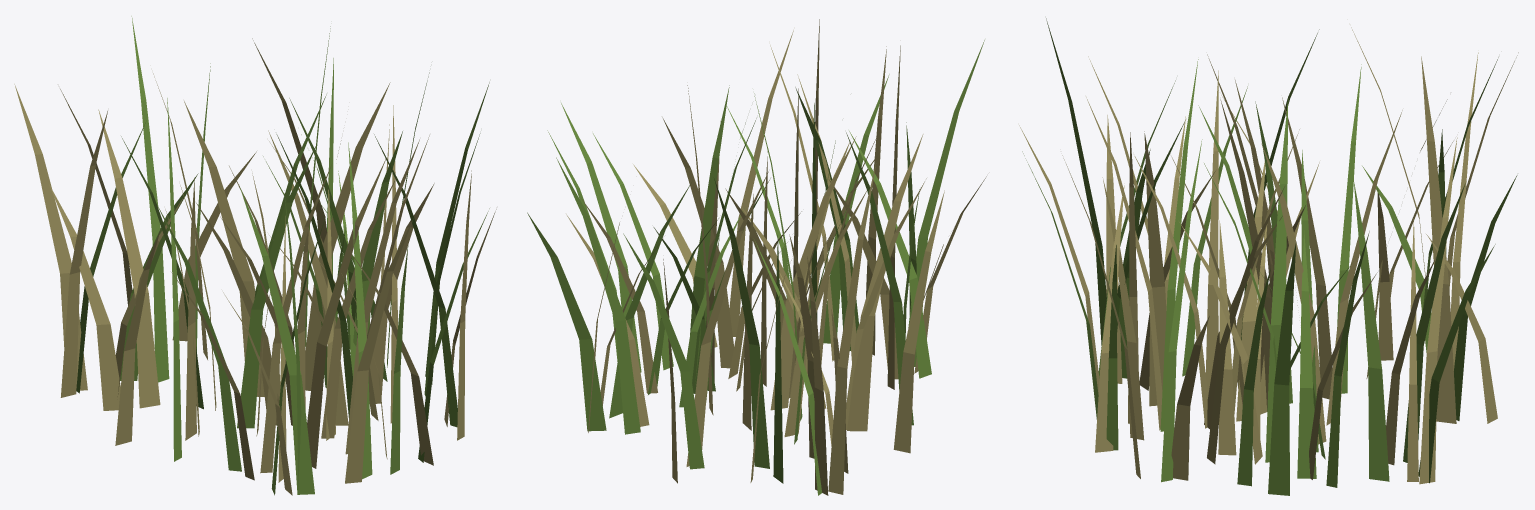
File: grass_tall.glb
3 renders of one model, left to right at view 1: azimuth 30°, elevation 25°; view 2: azimuth 150°, elevation 25°; view 3: azimuth 270°, elevation 25°, orthographic. The views are drawn at different scales.
Visible parts, largest first — view 1: grass_tall; view 2: grass_tall; view 3: grass_tall.
Part boxes in pixels (bbox=[...]): grass_tall: bbox=[14, 16, 496, 495]; grass_tall: bbox=[527, 19, 986, 495]; grass_tall: bbox=[1019, 18, 1518, 495].
Size of the model in its own units: 1.14 by 0.9856 by 1.28.
